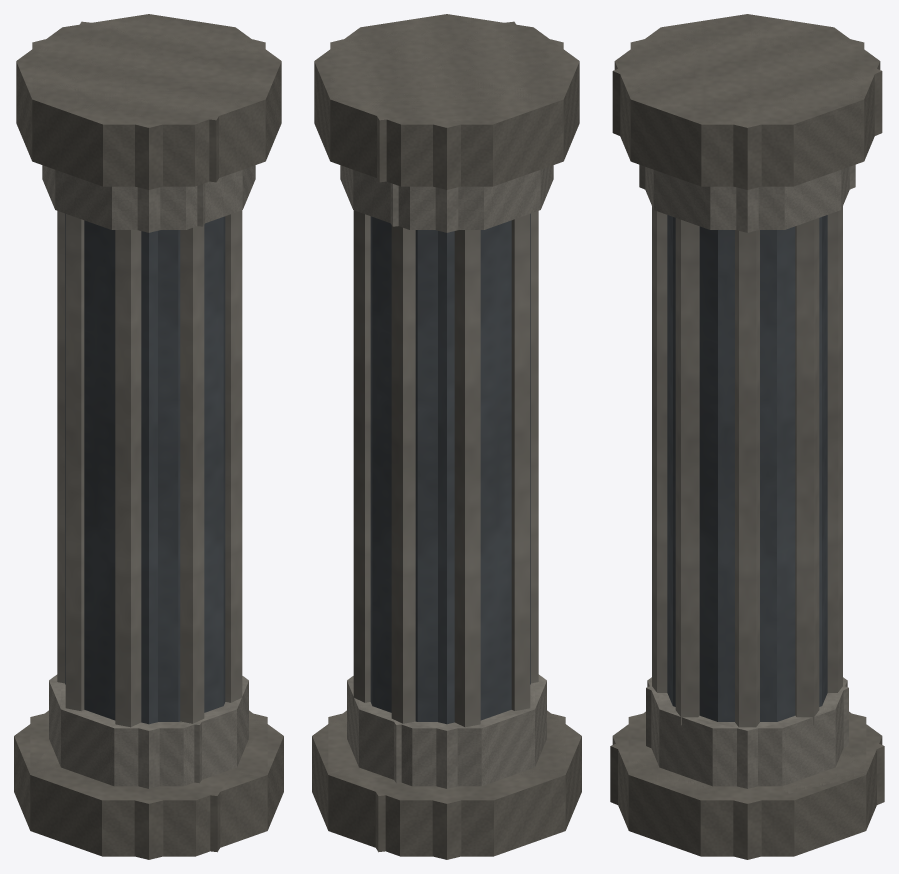
Rendered from RibPillar.fbx.
3 views of the same model, side by side, from view 1: azimuth 30°, elevation 25°; view 2: azimuth 150°, elevation 25°; view 3: azimuth 270°, elevation 25° (orthographic).
Visible parts, largest first — view 1: RibPillarDetail0, RibPillarDetail1, RibPillarDetail2; view 2: RibPillarDetail0, RibPillarDetail1, RibPillarDetail2; view 3: RibPillarDetail0, RibPillarDetail1, RibPillarDetail2.
Part boxes in pixels (left/top/right/bottom): RibPillarDetail0: left=14, top=14, right=283, bottom=856; RibPillarDetail1: left=30, top=14, right=267, bottom=859; RibPillarDetail2: left=32, top=21, right=266, bottom=852; RibPillarDetail0: left=312, top=14, right=581, bottom=856; RibPillarDetail1: left=328, top=14, right=565, bottom=859; RibPillarDetail2: left=328, top=21, right=564, bottom=852; RibPillarDetail0: left=612, top=14, right=882, bottom=856; RibPillarDetail1: left=628, top=14, right=866, bottom=859; RibPillarDetail2: left=610, top=15, right=884, bottom=804.
Bounding box in the file's own units: 124 × 365 × 124.
1 material, 1 textured.
